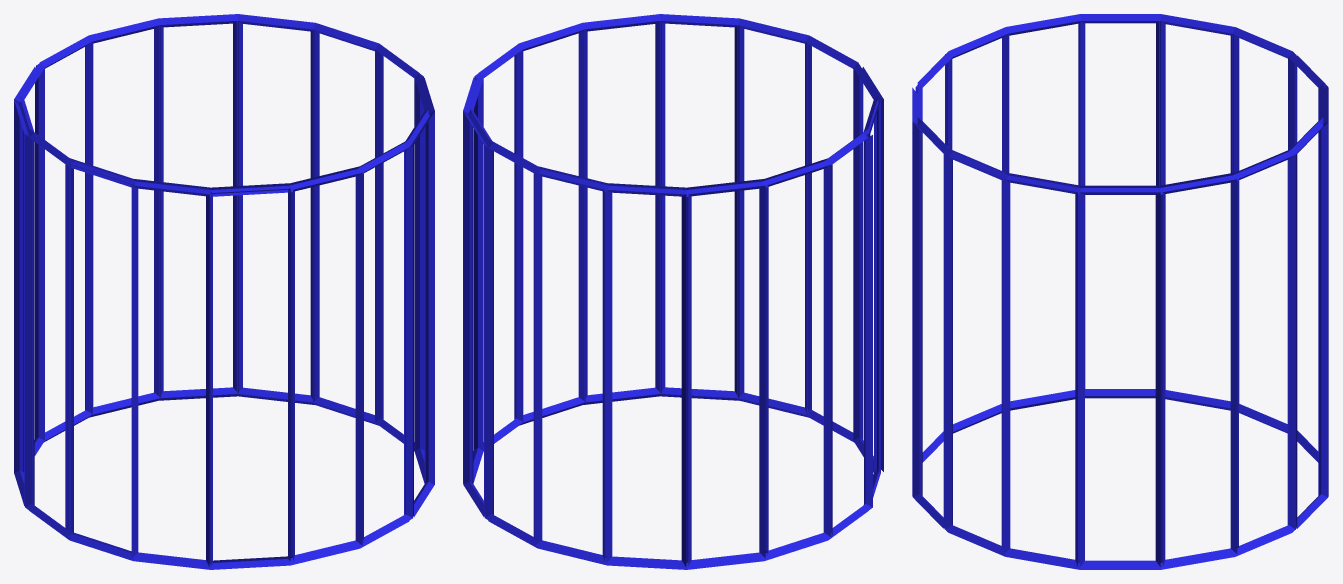
File: Rusuk Tabung.fbx
3 views of the same model, side by side, from view 1: azimuth 30°, elevation 25°; view 2: azimuth 150°, elevation 25°; view 3: azimuth 270°, elevation 25° (orthographic).
Parts seen in each view (by area): view 1: Cylinder.013, Cylinder.001, Cylinder.017, Cylinder.015, Cylinder.012, Cylinder.003, Cylinder.018, Cylinder.007, Cylinder.002, Cylinder.004, Cylinder.011, Cylinder.005 (+6 smaller); view 2: Cylinder.015, Cylinder.010, Cylinder.011, Cylinder.009, Cylinder.001, Cylinder.012, Cylinder.007, Cylinder.013, Cylinder.002, Cylinder.008, Cylinder.006, Cylinder.017 (+6 smaller); view 3: Cylinder.006, Cylinder.004, Cylinder.008, Cylinder.001, Cylinder.002, Cylinder.005, Cylinder.003, Cylinder.007, Cylinder.018, Cylinder.013, Cylinder.012, Cylinder.015 (+4 smaller).
Boxes of the visible parts, bbox=[...] form: Cylinder.013: bbox=[25, 132, 73, 536]; Cylinder.001: bbox=[19, 14, 429, 196]; Cylinder.017: bbox=[288, 169, 362, 562]; Cylinder.015: bbox=[132, 181, 212, 567]; Cylinder.012: bbox=[14, 100, 34, 506]; Cylinder.003: bbox=[404, 112, 434, 516]; Cylinder.018: bbox=[21, 387, 426, 569]; Cylinder.007: bbox=[236, 21, 314, 401]; Cylinder.002: bbox=[356, 143, 412, 544]; Cylinder.004: bbox=[414, 77, 434, 483]; Cylinder.011: bbox=[14, 67, 44, 472]; Cylinder.005: bbox=[375, 50, 423, 450]; Cylinder.015: bbox=[853, 67, 883, 472]; Cylinder.010: bbox=[606, 185, 687, 567]; Cylinder.011: bbox=[685, 181, 765, 567]; Cylinder.009: bbox=[535, 169, 609, 562]; Cylinder.001: bbox=[468, 14, 878, 196]; Cylinder.012: bbox=[761, 161, 831, 557]; Cylinder.007: bbox=[463, 112, 493, 516]; Cylinder.013: bbox=[823, 132, 872, 536]; Cylinder.002: bbox=[659, 21, 739, 397]; Cylinder.008: bbox=[484, 143, 541, 544]; Cylinder.006: bbox=[463, 77, 483, 483]; Cylinder.017: bbox=[737, 25, 811, 413]; Cylinder.006: bbox=[1159, 175, 1237, 567]; Cylinder.004: bbox=[1003, 175, 1081, 567]; Cylinder.008: bbox=[1287, 122, 1328, 528]; Cylinder.001: bbox=[917, 14, 1323, 194]; Cylinder.002: bbox=[912, 122, 952, 528]; Cylinder.005: bbox=[1080, 188, 1160, 567]; Cylinder.003: bbox=[944, 151, 1008, 553]; Cylinder.007: bbox=[1232, 151, 1295, 553]; Cylinder.018: bbox=[921, 390, 1320, 569]; Cylinder.013: bbox=[1080, 21, 1160, 393]; Cylinder.012: bbox=[1159, 21, 1233, 404]; Cylinder.015: bbox=[945, 34, 1009, 428].
Size of the model in its own units: 201 by 205 by 201.
